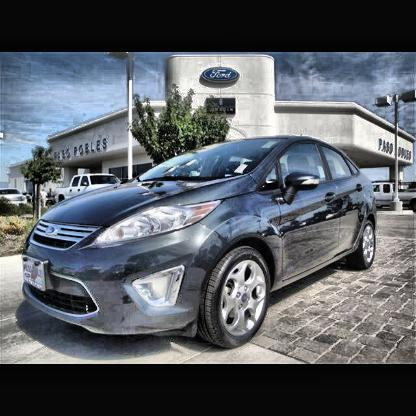Ford Fiesta Sedan 2012: (22, 136, 378, 350)
